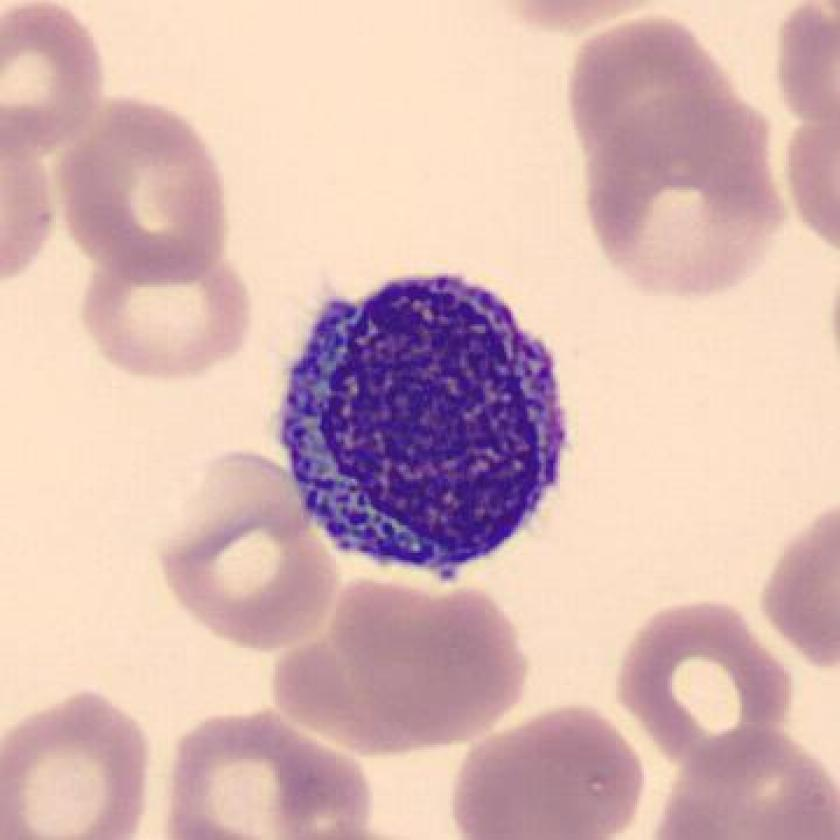monocyte: (263, 251, 592, 603)
